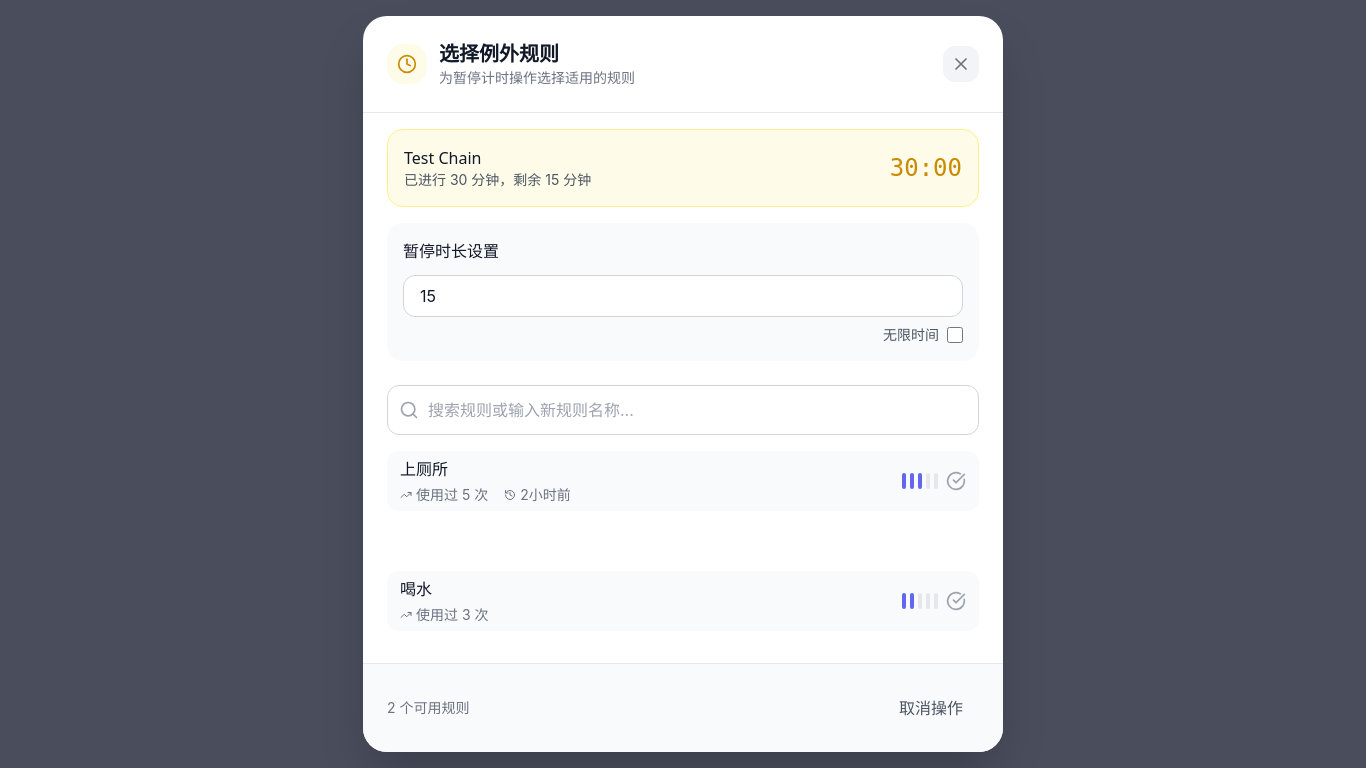
Test case: RuleSelectionDialog › rule creation › should show error when creating duplicate rule
The image size is (1366, 768).
Check: the text "上厕所" is shown, box [400, 459, 448, 479]
Type "上厕所" into the field labelled "搜索规则" at (683, 410), box [387, 385, 979, 435]
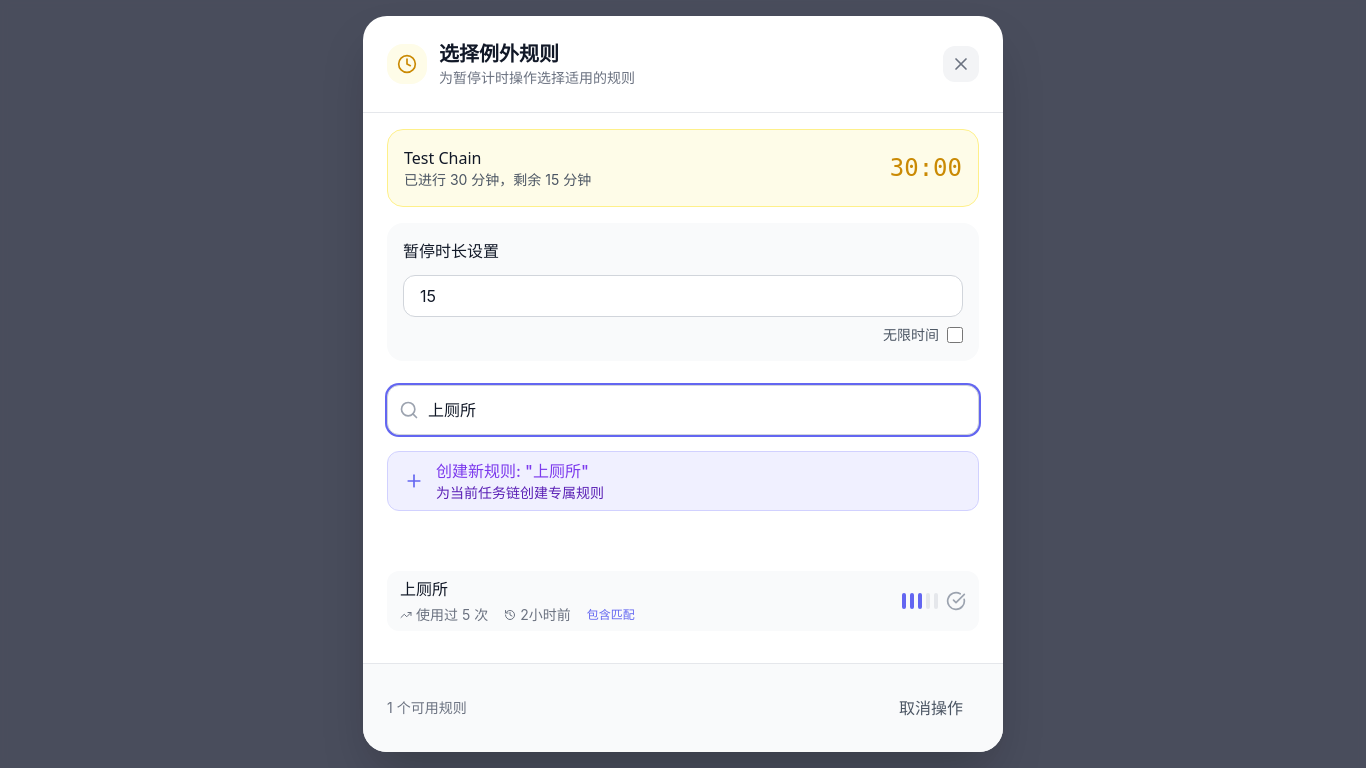
Click the text "创建新规则: \"上厕所\"" at (512, 471), box [436, 461, 589, 481]
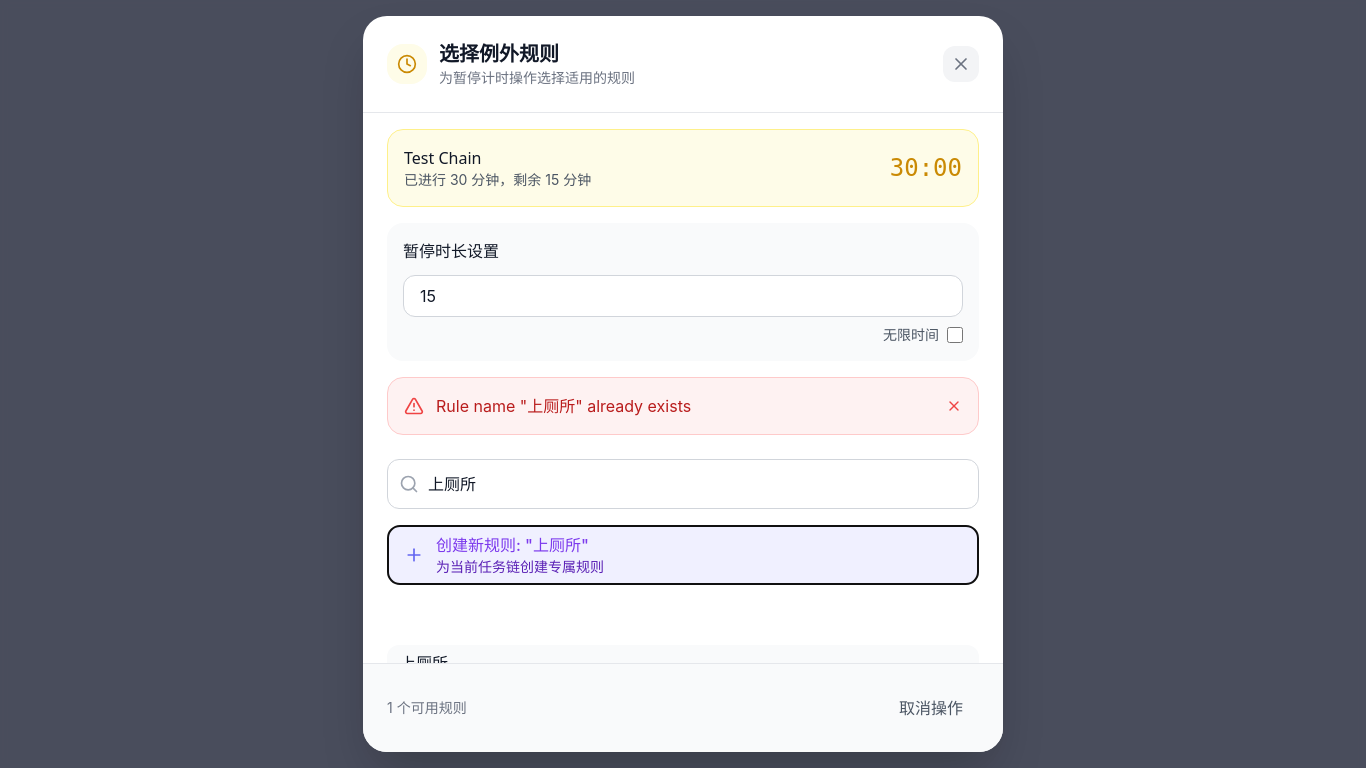
Check: the text "Rule name \"上厕所\" already exists" is shown, box [436, 396, 691, 416]
